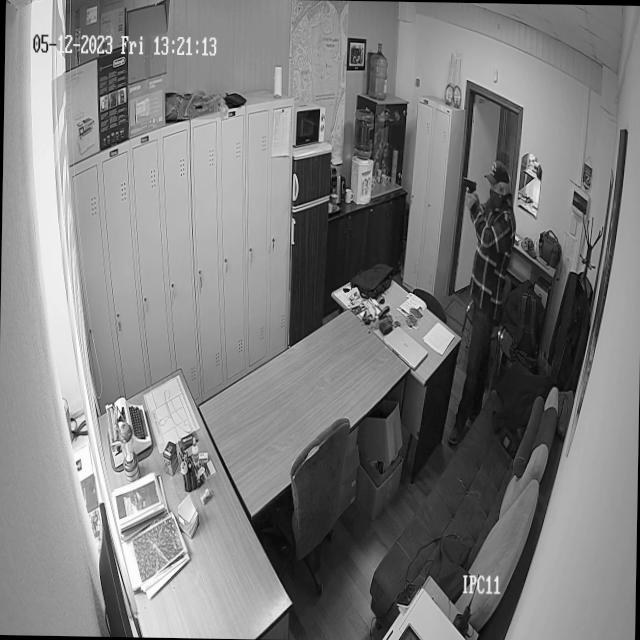gun: (457, 172, 482, 192)
person with a gun: (458, 132, 524, 412)
